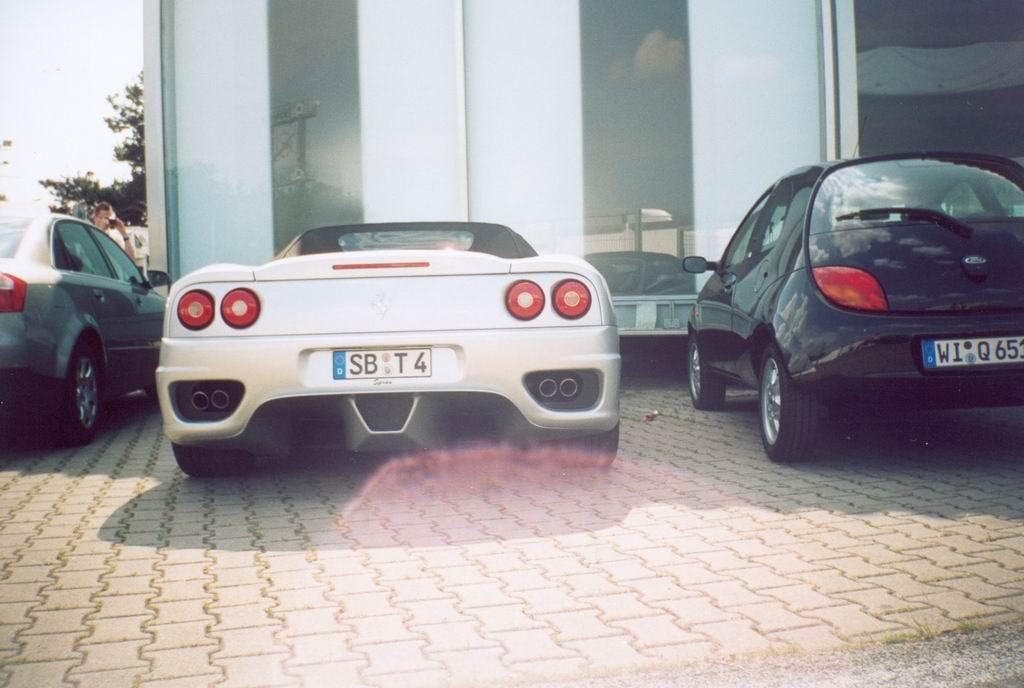car: (154, 216, 633, 480), (683, 145, 1024, 467), (1, 212, 175, 450)
